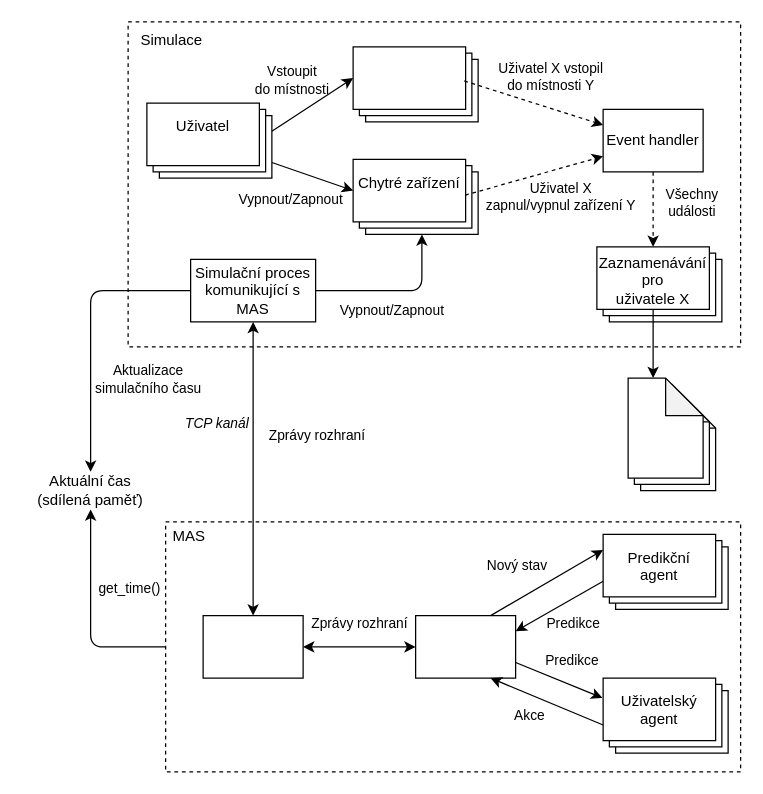
The diagram is 763 pixels wide and 794 high, and some of its shapes have lost their labels. The box of each missing label's shape, as (x1, y1, x2, y2) in pixels:
Hlavní agent: (414, 614, 516, 678)
Místnost: (352, 46, 478, 122)
TCP agent: (202, 614, 303, 678)
Trénovací data: (627, 377, 703, 478)
